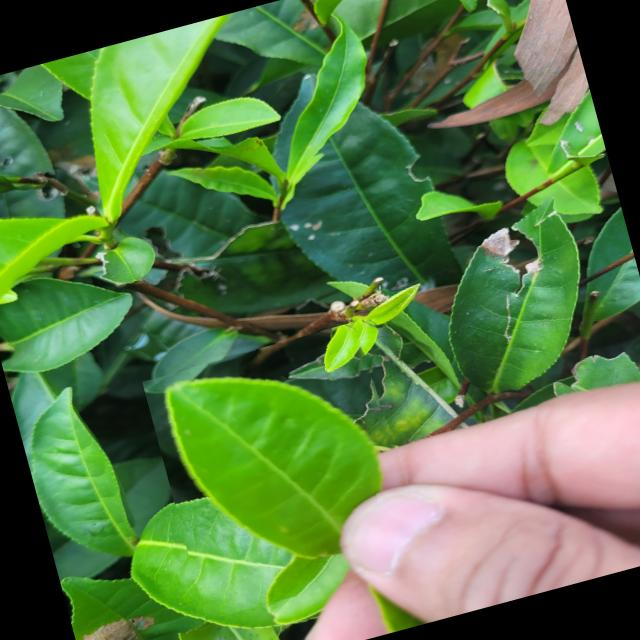Catagory A(1-2 days): (140, 318, 433, 620)
